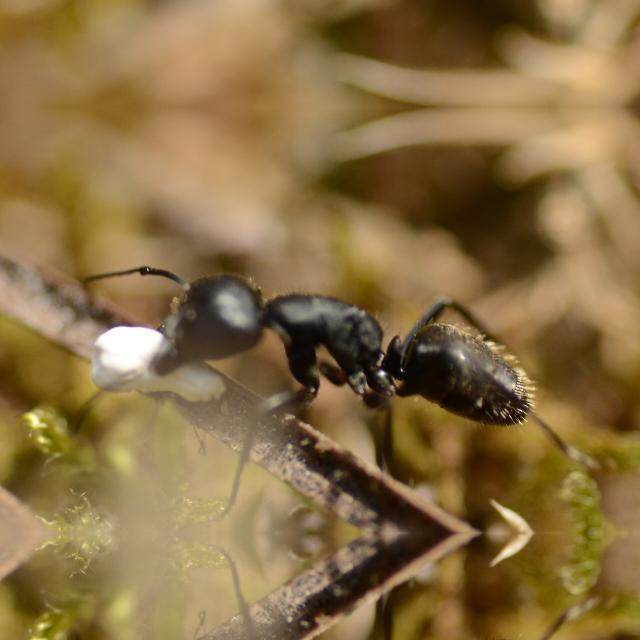Camponotus: (118, 250, 560, 452)
